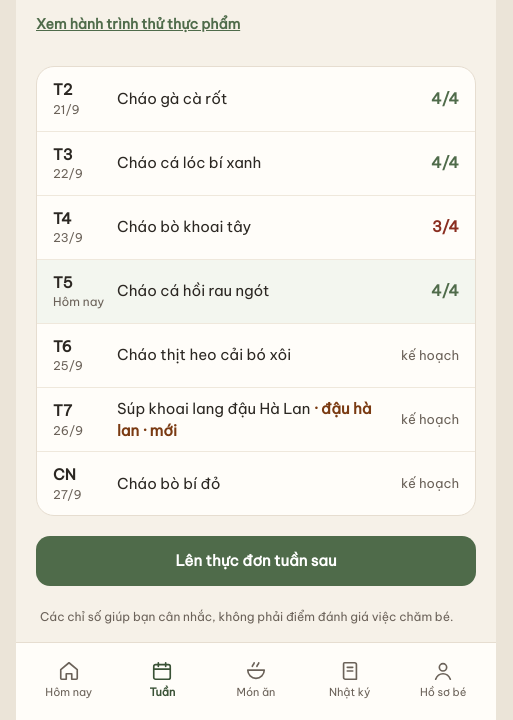
it: Plan next week (G06, UC-13) › shows any other refusal
The width and height of the screenshot is (513, 720).
(page scrolled)
Click the button "Lên thực đơn tuần sau" at (256, 561), box [36, 536, 476, 586]
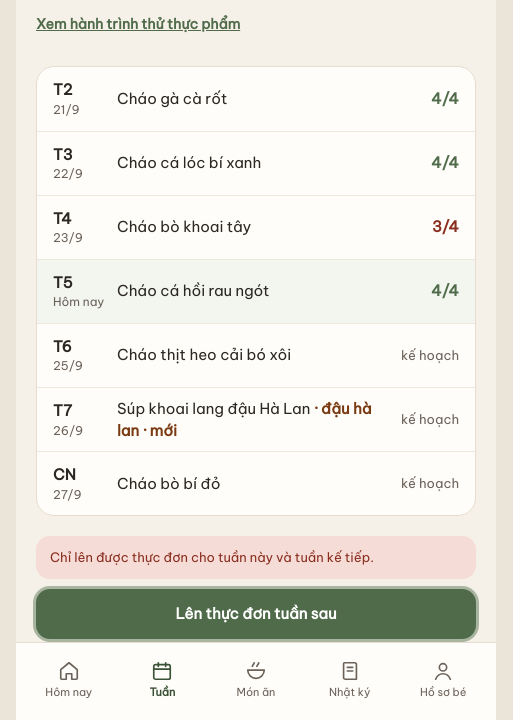
Check: the text "Chỉ lên được thực đơn cho tuần này và tuần kế tiếp." is shown, box [50, 548, 374, 567]
